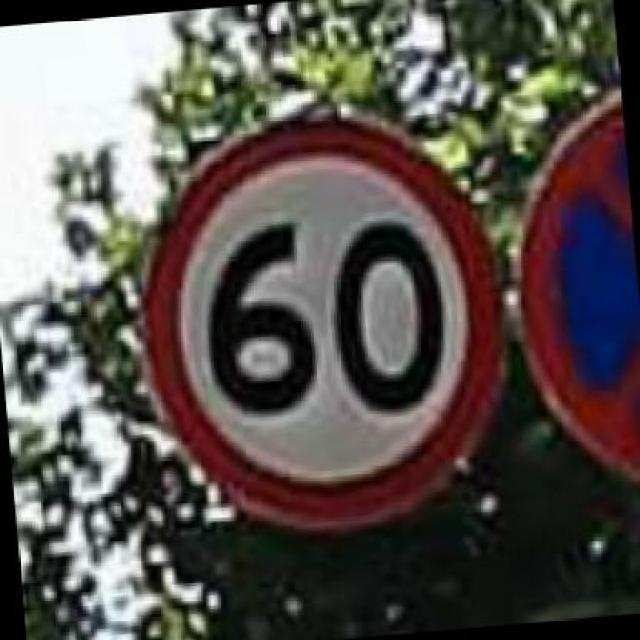Limite-60: (142, 113, 512, 535)
